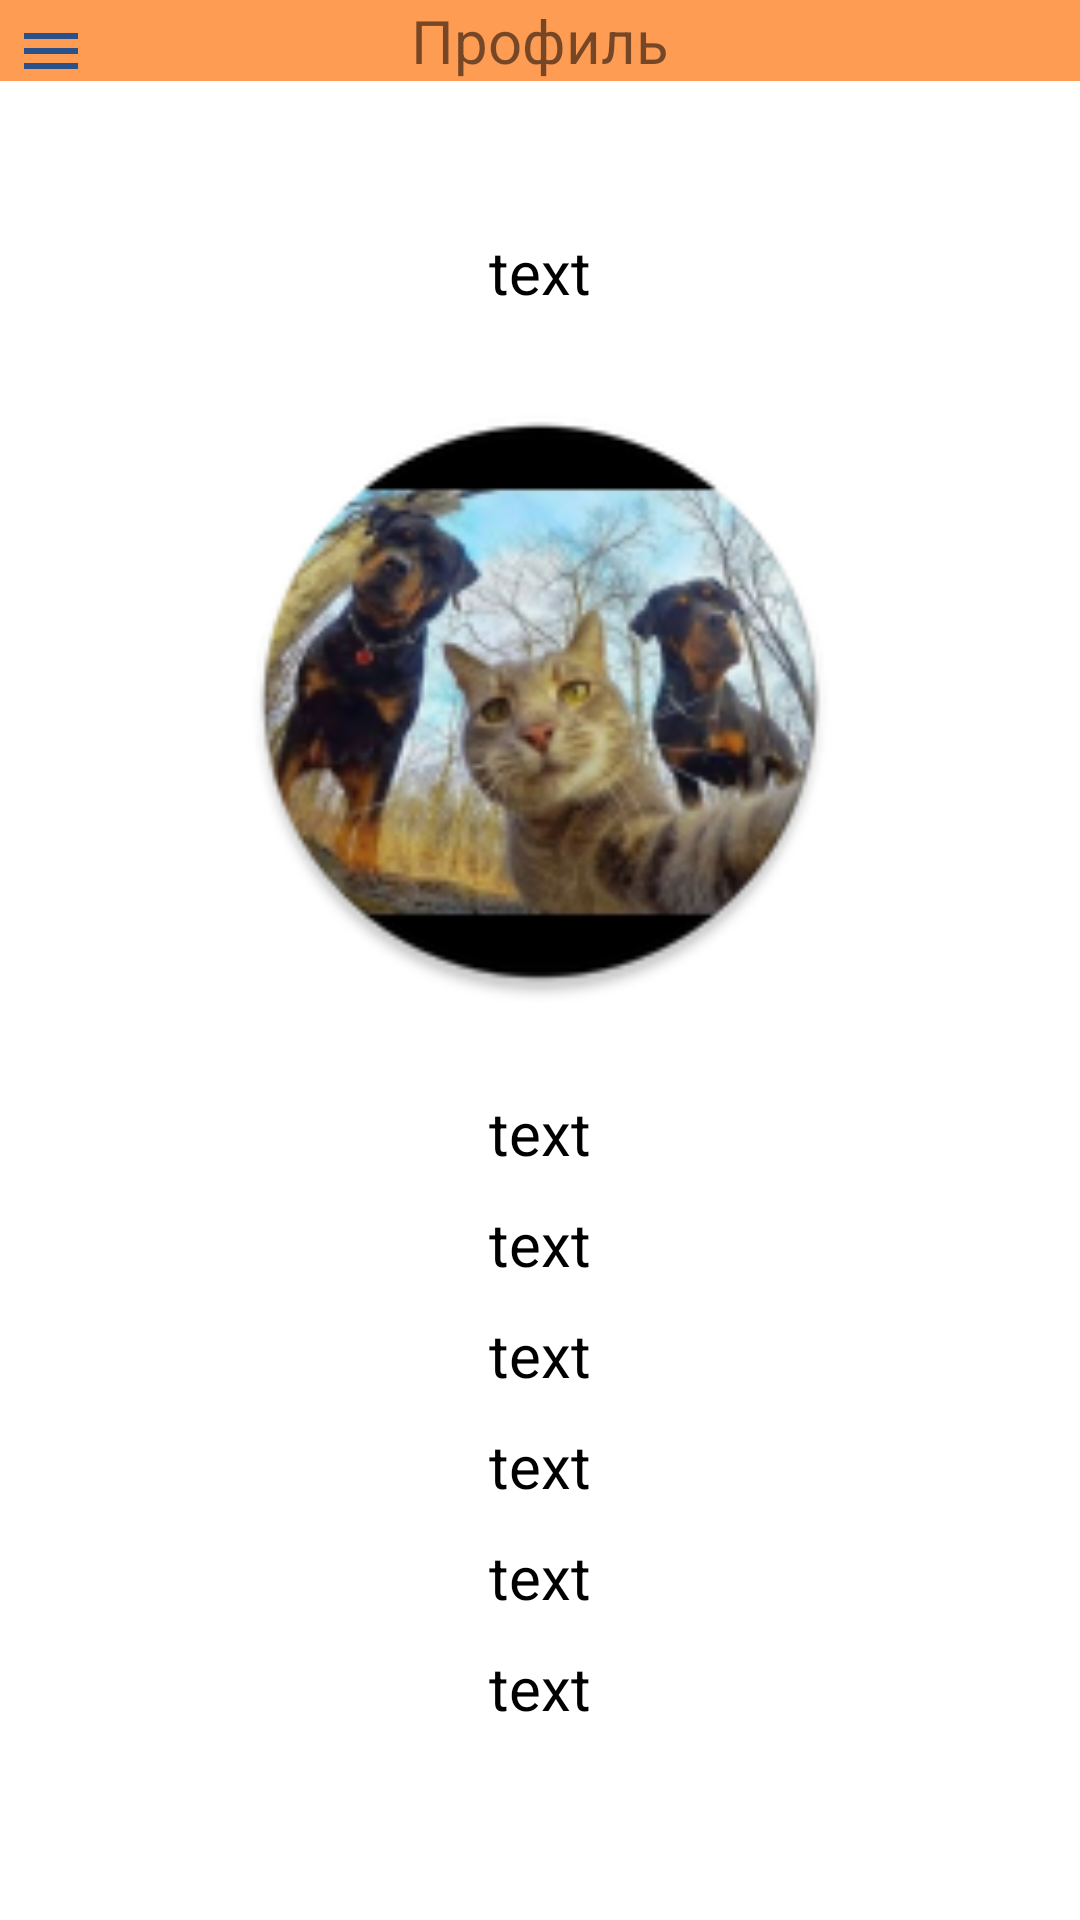

Where to tap for icons on this 1080×1920 app screen, as (x=x, y=y):
Menu Button: (x=51, y=51)
